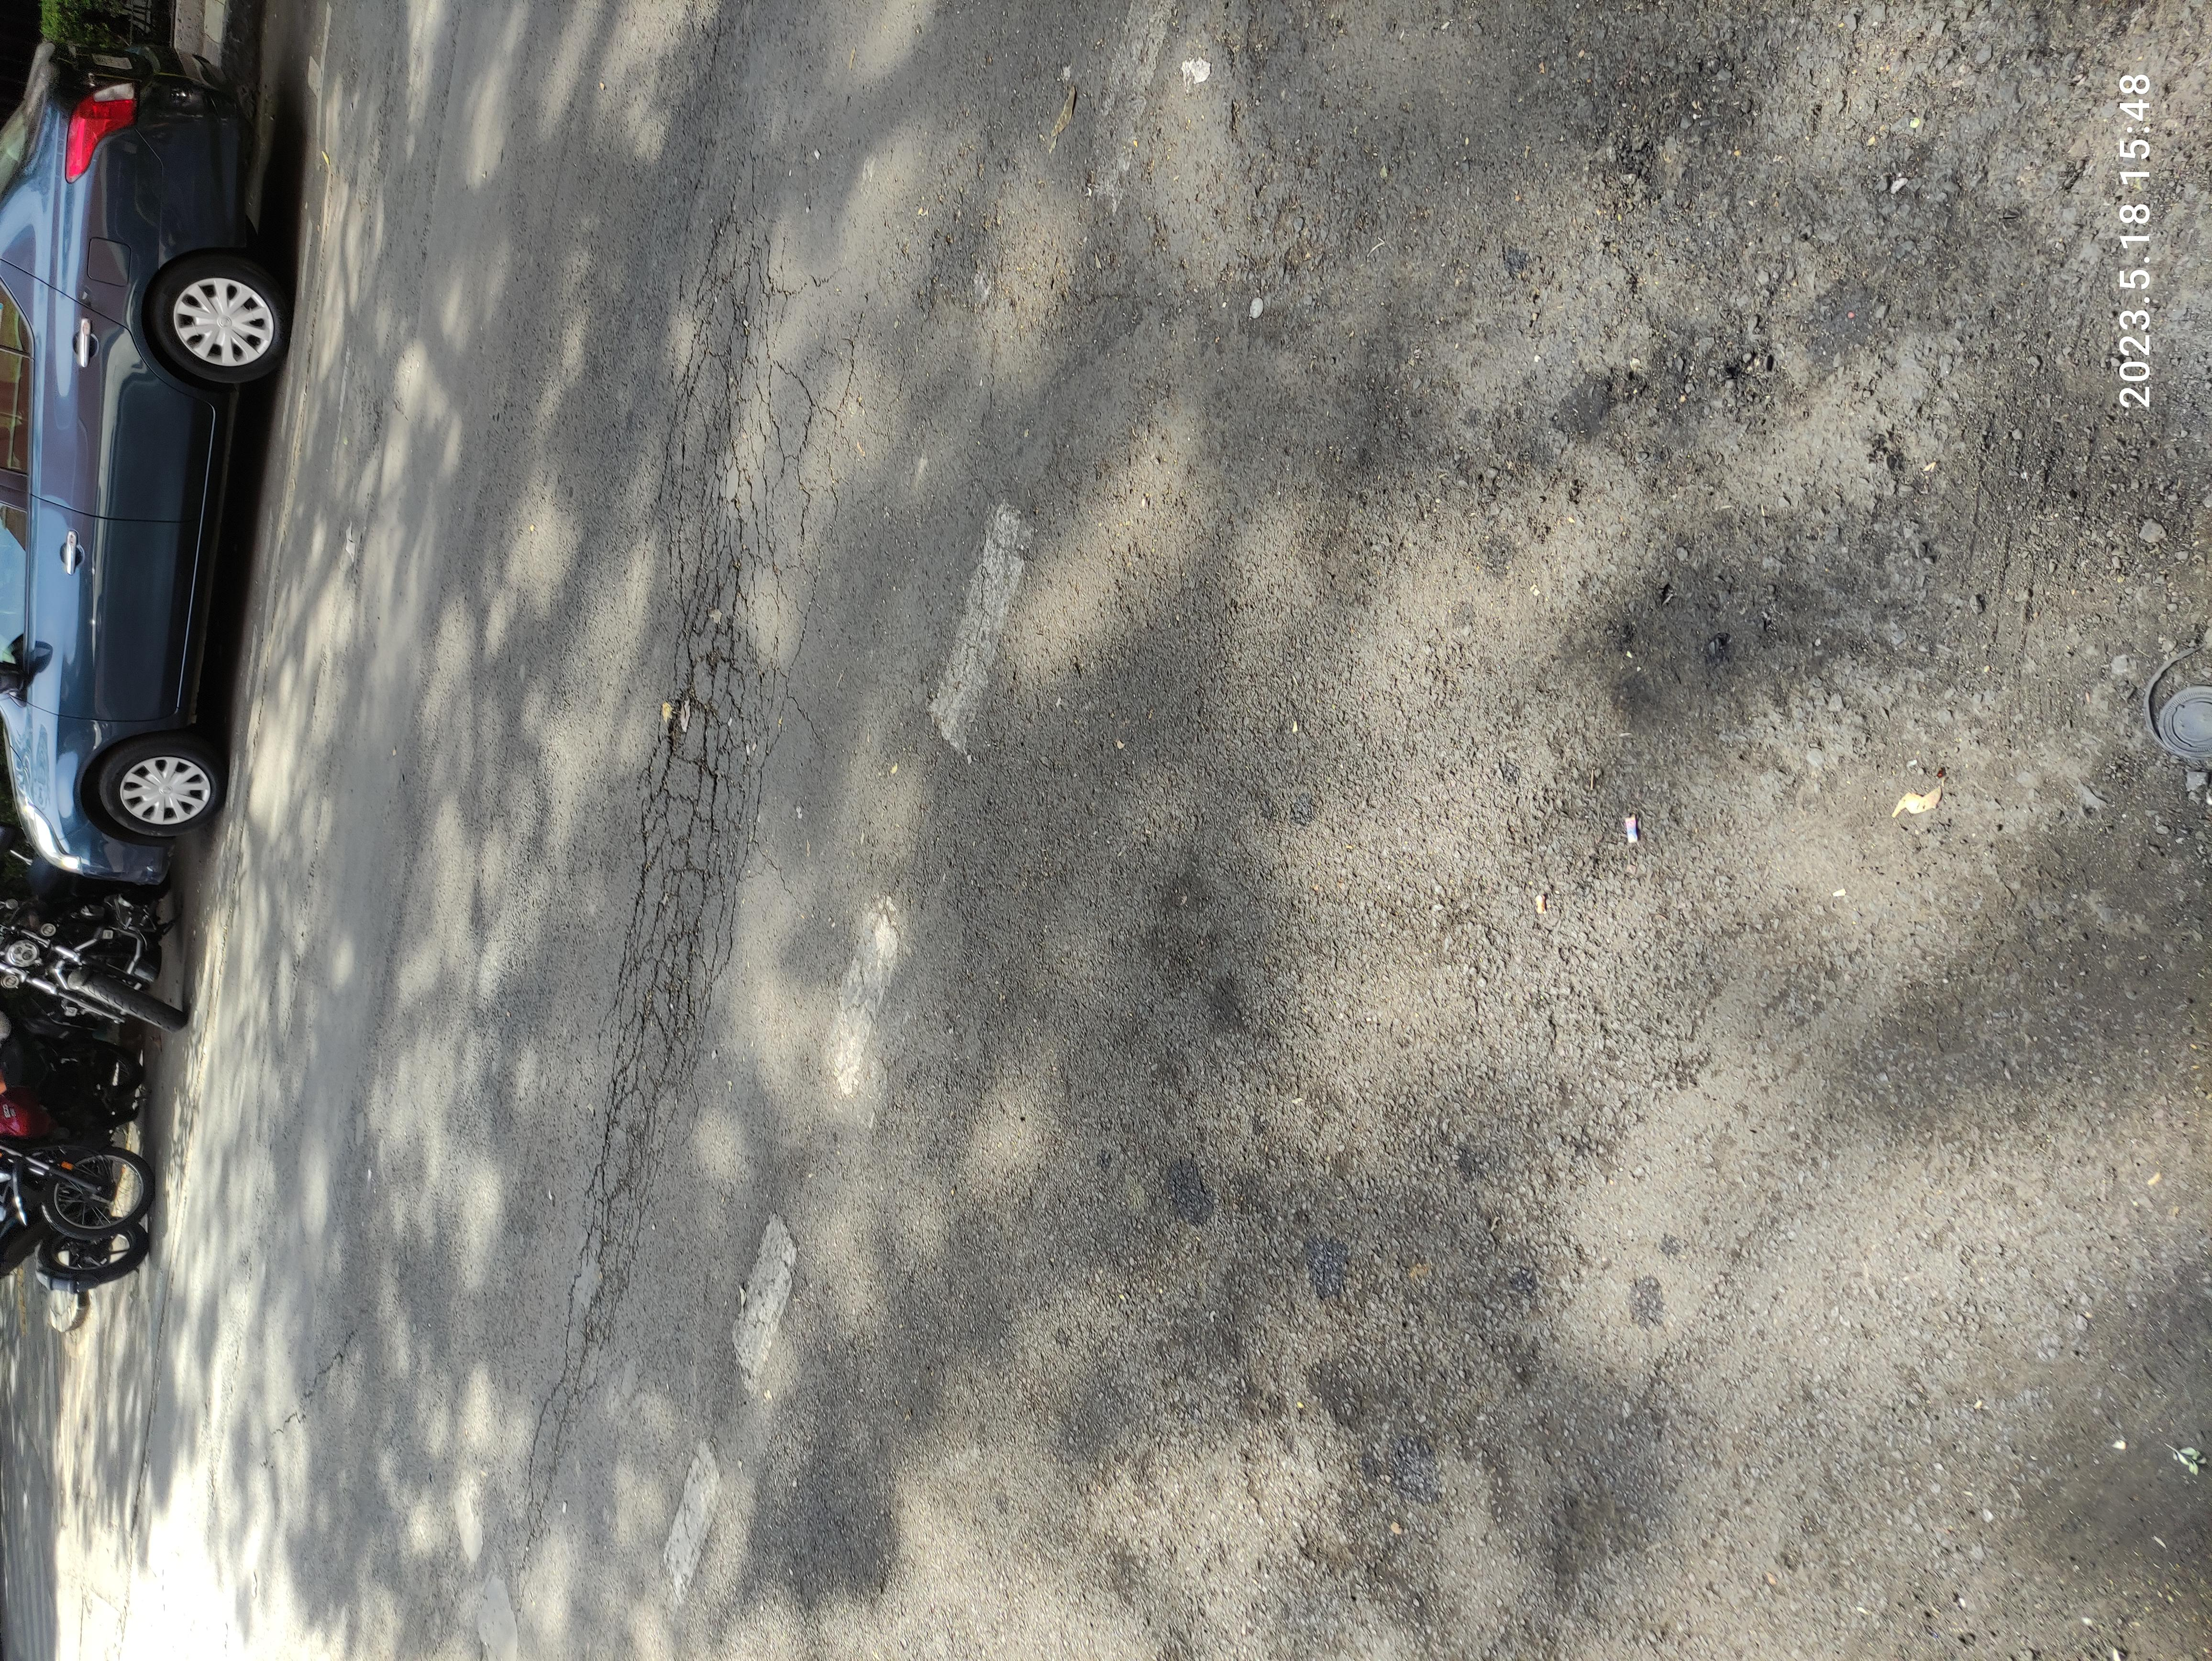alligator-crack: (147, 373, 1959, 618)
